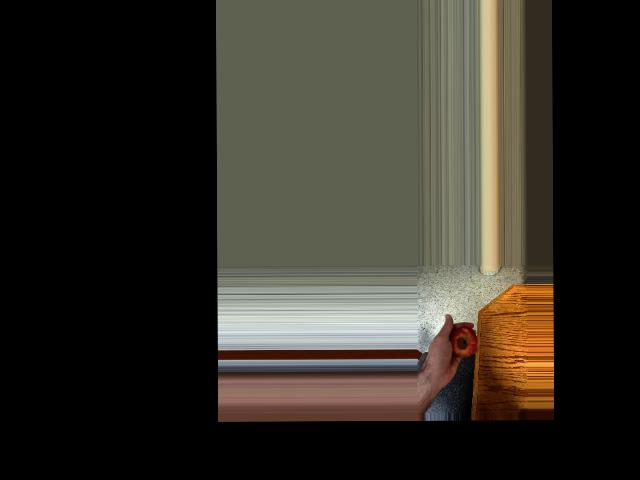apple: (446, 325, 477, 362)
